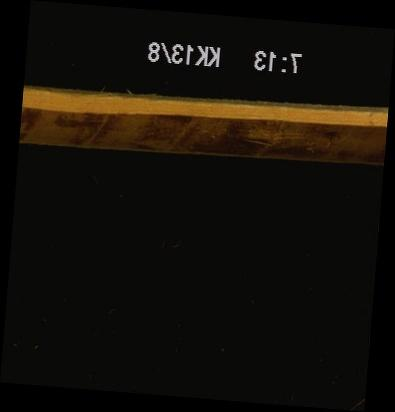wave: (20, 106, 384, 155)
